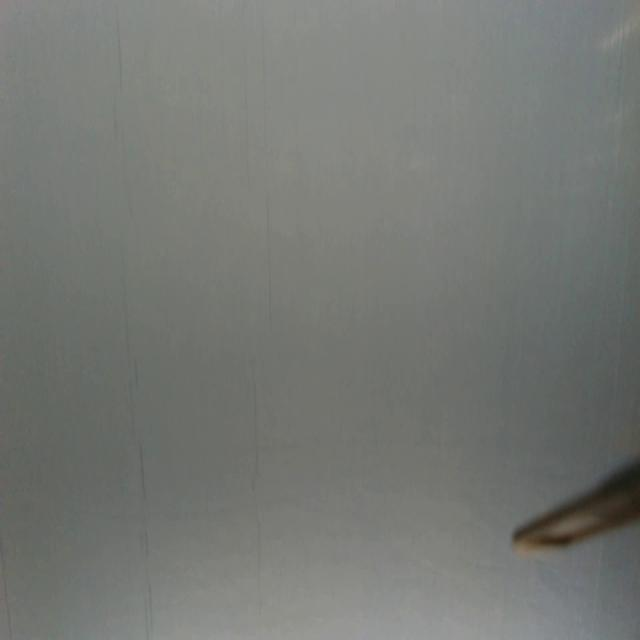crease: (120, 263, 154, 635), (260, 0, 274, 332), (250, 349, 264, 640), (240, 32, 253, 193)
